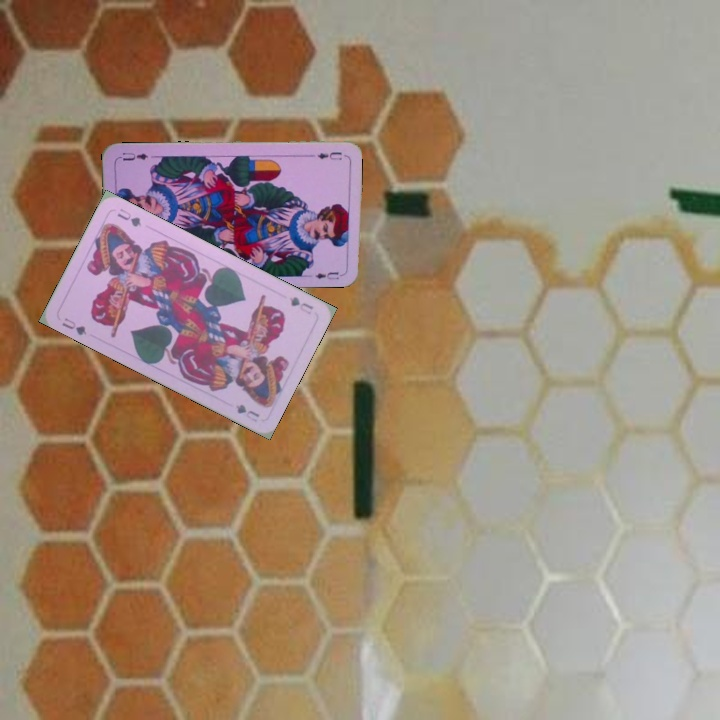EU: (305, 148, 344, 162)
GU: (285, 292, 316, 317), (58, 314, 89, 338)
